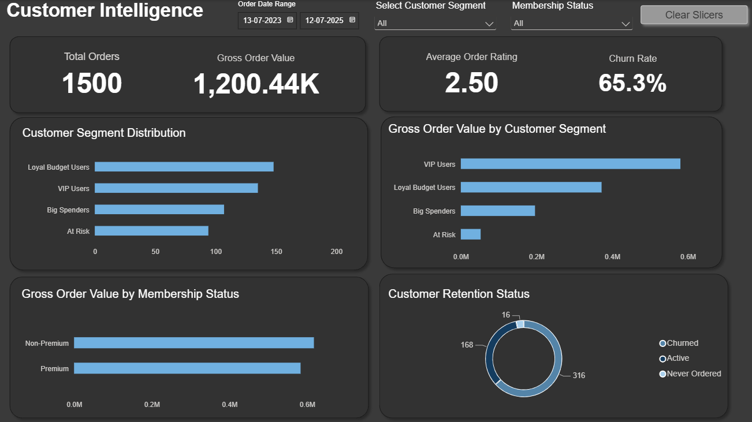

Layout of this report page (visuals, bound fields, positions):
{"tool":"powerbi","page":{"name":"Customer Intelligence","canvas":[1280,720],"ordinal":1},"visuals":[{"type":"group","id":"g1","title":"background","box":[7.4,52.8,1238.8,667.7],"z":0},{"type":"shape","box":[7.4,190.2,627,278.5],"z":0,"group":"g1"},{"type":"textbox","box":[11,0,348.5,42.9],"z":1000},{"type":"shape","box":[635.2,456.7,611,263.8],"z":1000,"group":"g1"},{"type":"cardVisual","fields":{"Data":["_Measures.Total Orders"]},"box":[56.4,65,199.1,126.7],"z":2000},{"type":"shape","box":[7.4,461.3,628.2,258.9],"z":2000,"group":"g1"},{"type":"cardVisual","fields":{"Data":["_Measures.Churn Rate"]},"box":[987.7,68.7,176.1,121.1],"z":3000},{"type":"shape","box":[637.6,189.2,598.8,276.1],"z":3000,"group":"g1"},{"type":"shape","box":[635.2,53,601.2,146],"z":4000,"group":"g1"},{"type":"cardVisual","fields":{"Data":["_Measures.Average Rating"]},"box":[704.3,65,195.1,127.6],"z":4000},{"type":"shape","box":[7.5,52.8,623.3,148.5],"z":5000,"group":"g1"},{"type":"cardVisual","fields":{"Data":["_Measures.Gross Order Value"]},"box":[310.4,71.2,249.1,120.2],"z":5000},{"type":"clusteredBarChart","title":"Customer Segment Distribution","fields":{"Category":["customer_segments.customer_segment"],"Y":["_Measures.Customer Count"]},"box":[22.1,200,576.7,254.6],"z":6000},{"type":"clusteredBarChart","title":"Gross Order Value by Customer Segment","fields":{"Category":["customer_segments.customer_segment"],"Y":["_Measures.Gross Order Value"]},"box":[644.2,192.6,555,270.2],"z":7000},{"type":"donutChart","title":"Customer Retention Status","fields":{"Category":["customers_dim.customer_status"],"Y":["_Measures.Total Registered Customers"]},"box":[644.2,474.1,606.8,235.3],"z":8000},{"type":"clusteredBarChart","title":"Gross Order Value by Membership Status","fields":{"Category":["customers_dim.is_premium"],"Y":["_Measures.Gross Order Value"]},"box":[20.9,473.6,597.2,241.3],"z":9000},{"type":"slicer","fields":{"Values":["orders_fact.order_date"]},"box":[396.3,0,261.7,52.6],"z":10000},{"type":"slicer","fields":{"Values":["customer_segments.customer_segment"]},"box":[630.7,0,218.9,64.8],"z":11000},{"type":"actionButton","box":[1079.8,0,200,50],"z":12000},{"type":"slicer","fields":{"Values":["customers_dim.is_premium"]},"box":[862.6,0,218.9,64.8],"z":13000}]}

Visuals, with their boxes in screenshot pixels (x1, y1, x2, y2), scaled from the page's 1280x720 canvas onto the 752x422 screenshot:
"background" group: x1=4 y1=31 x2=732 y2=421
shape: x1=4 y1=111 x2=373 y2=275
textbox: x1=6 y1=0 x2=211 y2=25
shape: x1=373 y1=268 x2=732 y2=421
cardVisual - _Measures.Total Orders: x1=33 y1=38 x2=150 y2=112
shape: x1=4 y1=270 x2=373 y2=421
cardVisual - _Measures.Churn Rate: x1=580 y1=40 x2=684 y2=111
shape: x1=375 y1=111 x2=726 y2=273
shape: x1=373 y1=31 x2=726 y2=117
cardVisual - _Measures.Average Rating: x1=414 y1=38 x2=528 y2=113
shape: x1=4 y1=31 x2=371 y2=118
cardVisual - _Measures.Gross Order Value: x1=182 y1=42 x2=329 y2=112
"Customer Segment Distribution" clusteredBarChart: x1=13 y1=117 x2=352 y2=266
"Gross Order Value by Customer Segment" clusteredBarChart: x1=378 y1=113 x2=705 y2=271
"Customer Retention Status" donutChart: x1=378 y1=278 x2=735 y2=416
"Gross Order Value by Membership Status" clusteredBarChart: x1=12 y1=278 x2=363 y2=419
slicer - orders_fact.order_date: x1=233 y1=0 x2=387 y2=31
slicer - customer_segments.customer_segment: x1=371 y1=0 x2=499 y2=38
actionButton: x1=634 y1=0 x2=751 y2=29
slicer - customers_dim.is_premium: x1=507 y1=0 x2=635 y2=38
